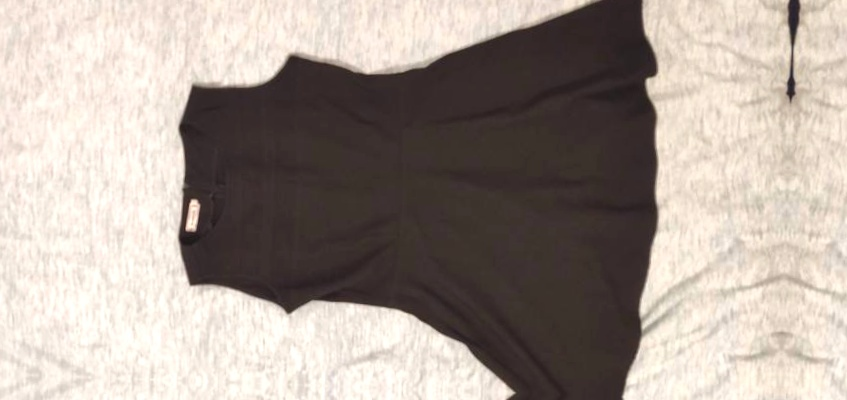Dress: (137, 16, 693, 394), (123, 385, 680, 400)
